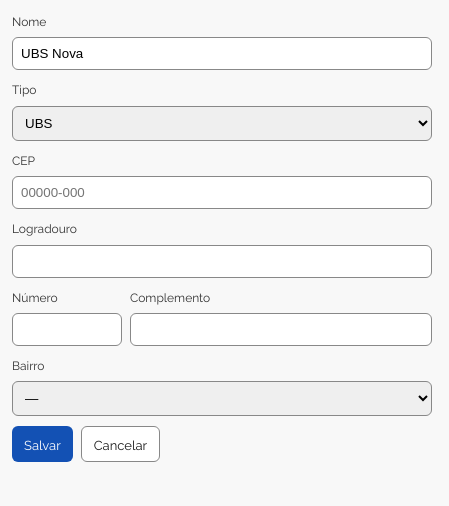
it: UnitForm — CEP › sucesso: mascara, preenche o logradouro, mostra a sugestão e pré-seleciona o bairro
Step 1. Type "80010000" into the field labelled "CEP" → {"x": 222, "y": 193}, box [12, 176, 432, 209]
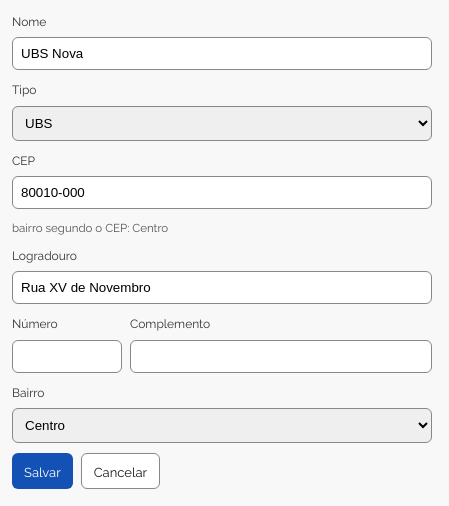
Result: the field labelled "CEP" holds "80010-000" at [12, 176, 432, 209]
Result: the text "bairro segundo o CEP: Centro" is shown at [12, 219, 168, 235]
Result: the field labelled "Logradouro" holds "Rua XV de Novembro" at [12, 271, 432, 304]
